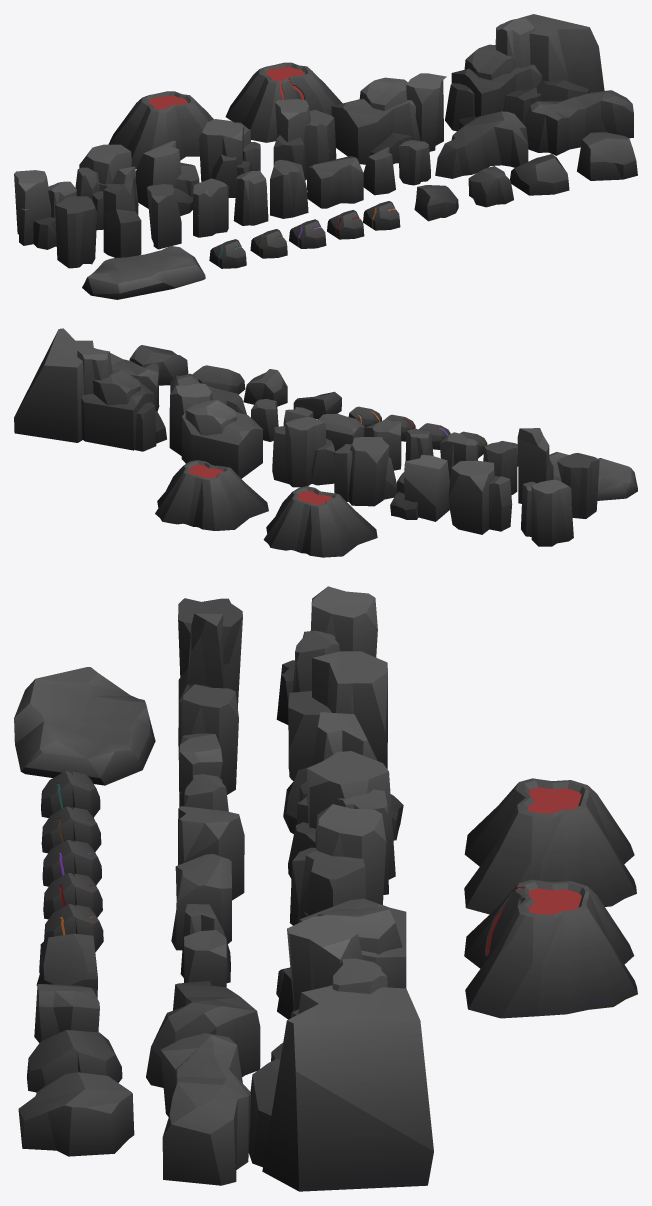
The model's file is rocks.glb.
The picture shows the model from 3 angles, top to bottom: view 1: azimuth 30°, elevation 25°; view 2: azimuth 150°, elevation 25°; view 3: azimuth 270°, elevation 25°; orthographic projection. The views are drawn at different scales.
Visible parts, largest first — view 1: Cliff_07, Cliff_06, Cliff_Rock_11, Plane.004, Plane.003_Plane.005, Cliff_Rock_10, Rock_Floor_01, Cliff_05, Cliff_04, Cliff_01, Cliff_Rock_02, Cliff_Rock_01 (+18 smaller); view 2: Cliff_07, Cliff_06, Plane.003_Plane.005, Plane.004, Cliff_02, Cliff_05, Cliff_04, Cliff_03, Cliff_01, Cliff_Rock_01, Cliff_Rock_02, Rock_Floor_01 (+14 smaller); view 3: Cliff_07, Plane.004, Plane.003_Plane.005, Rock_Floor_01, Cliff_Rock_11, Cliff_06, Cliff_05, Rock_04, Cliff_02, Cliff_04, Cliff_Rock_10, Cliff_01 (+18 smaller).
Boxes of the visible parts, x1,y1,x2,y2 form: Cliff_07: [445, 14, 604, 131]; Cliff_06: [331, 73, 446, 164]; Cliff_Rock_11: [524, 90, 633, 155]; Plane.004: [225, 62, 342, 142]; Plane.003_Plane.005: [108, 91, 213, 168]; Cliff_Rock_10: [435, 111, 528, 178]; Rock_Floor_01: [82, 246, 205, 299]; Cliff_05: [273, 99, 336, 180]; Cliff_04: [199, 119, 260, 197]; Cliff_01: [14, 170, 76, 249]; Cliff_Rock_02: [103, 166, 141, 257]; Cliff_Rock_01: [55, 196, 97, 268]; Cliff_07: [14, 328, 166, 451]; Cliff_06: [169, 383, 263, 478]; Plane.003_Plane.005: [263, 486, 377, 557]; Plane.004: [155, 460, 268, 530]; Cliff_02: [448, 460, 512, 534]; Cliff_05: [272, 416, 335, 487]; Cliff_04: [334, 437, 396, 506]; Cliff_03: [390, 455, 449, 521]; Cliff_01: [521, 479, 573, 546]; Cliff_Rock_01: [557, 453, 599, 518]; Cliff_Rock_02: [517, 428, 553, 503]; Rock_Floor_01: [549, 452, 637, 500]; Cliff_07: [248, 958, 433, 1191]; Plane.004: [464, 879, 637, 1018]; Plane.003_Plane.005: [464, 778, 636, 914]; Rock_Floor_01: [14, 667, 155, 785]; Cliff_Rock_11: [160, 1033, 250, 1185]; Cliff_06: [276, 898, 406, 1019]; Cliff_05: [289, 804, 386, 925]; Rock_04: [18, 1072, 134, 1156]; Cliff_02: [288, 651, 387, 780]; Cliff_04: [288, 751, 395, 894]; Cliff_Rock_10: [146, 980, 260, 1087]; Cliff_01: [276, 586, 377, 724].
Bounding box in the file's own units: 98.79 × 14.81 × 52.13.
Materials: 1 (1 with a texture image).
